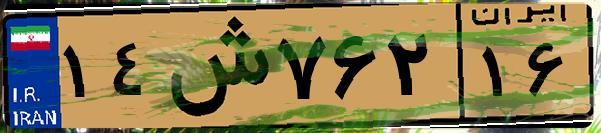1: (57, 26, 110, 100), (475, 38, 525, 113)
2: (385, 28, 445, 110)
4: (110, 28, 158, 98)
6: (330, 28, 385, 110), (525, 38, 570, 115)
7: (270, 28, 330, 110)
ش: (158, 12, 270, 120)
